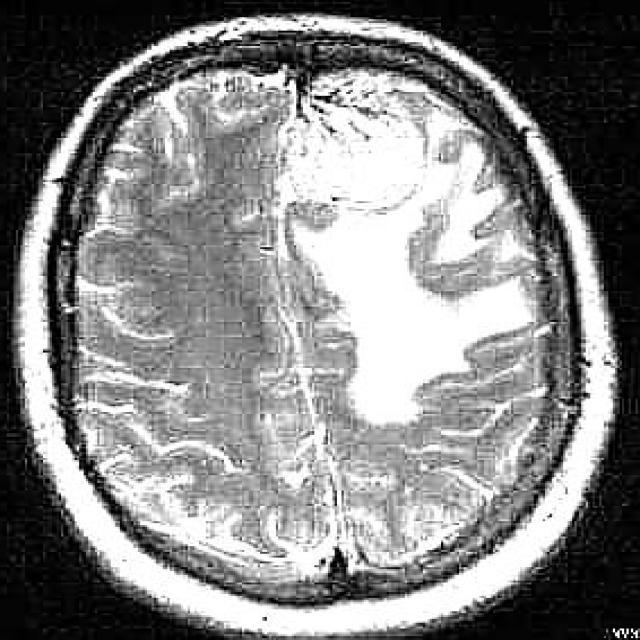tumor: (280, 73, 536, 427)
